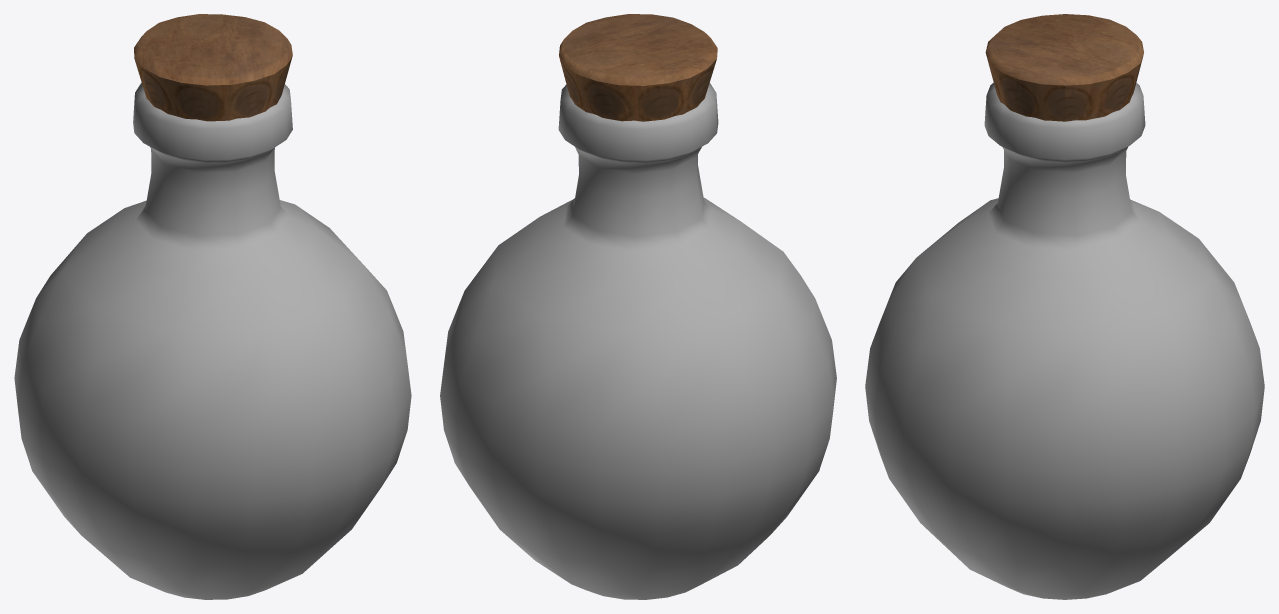
The model's file is SM_Potion_Props_Bottle_Small_01_B.fbx.
3 renders of one model, left to right at view 1: azimuth 30°, elevation 25°; view 2: azimuth 150°, elevation 25°; view 3: azimuth 270°, elevation 25°, orthographic.
Parts seen in each view (by area): view 1: SM_Potion_Props_Bottle_Small_01_B_LOD0; view 2: SM_Potion_Props_Bottle_Small_01_B_LOD0; view 3: SM_Potion_Props_Bottle_Small_01_B_LOD0.
Part boxes in pixels (x1,y1,x2,y2): SM_Potion_Props_Bottle_Small_01_B_LOD0: (14, 14, 411, 599); SM_Potion_Props_Bottle_Small_01_B_LOD0: (440, 14, 836, 599); SM_Potion_Props_Bottle_Small_01_B_LOD0: (865, 14, 1264, 599).
Size of what is drawn, in the model's own units: 11.17 by 16.25 by 11.17.
